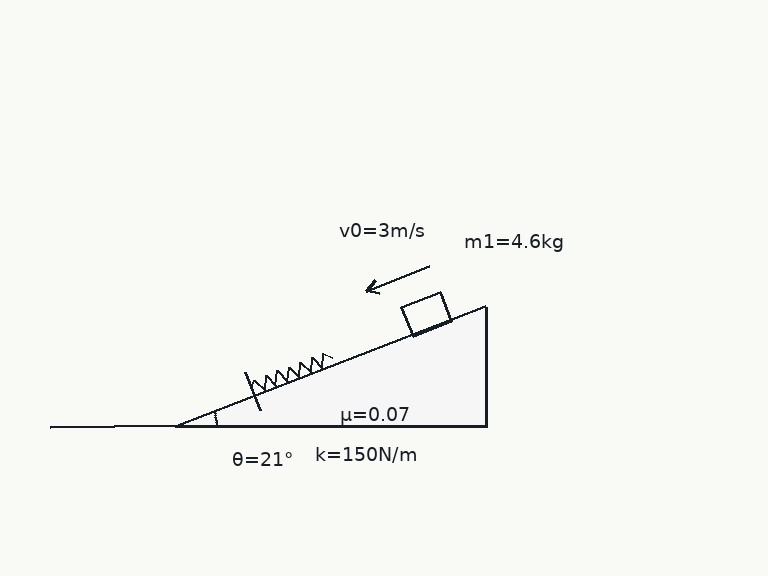block: (399, 290, 453, 338)
ramp: (175, 305, 488, 428)
spring: (249, 351, 333, 392)
